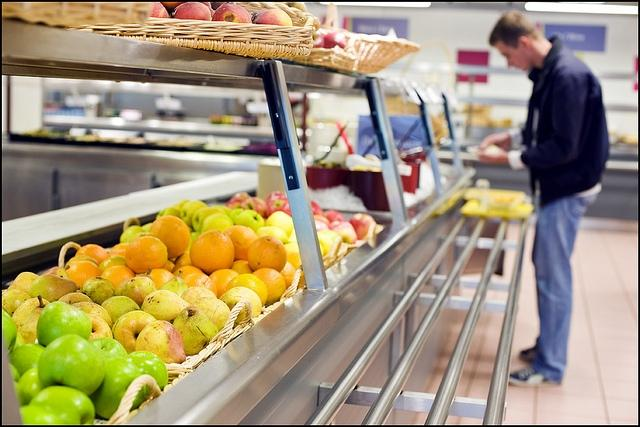apple: (38, 334, 105, 395), (88, 358, 142, 420), (24, 385, 96, 425), (36, 300, 92, 347), (124, 350, 168, 396), (6, 344, 46, 378), (16, 366, 44, 406), (192, 207, 228, 231), (89, 337, 128, 358), (348, 213, 376, 240), (266, 211, 294, 238), (233, 209, 264, 233), (328, 220, 358, 244), (201, 213, 234, 234), (2, 310, 17, 355), (316, 229, 339, 256), (238, 196, 268, 216), (120, 225, 148, 243), (284, 242, 302, 269), (267, 193, 288, 215), (323, 32, 347, 49), (321, 210, 346, 224), (185, 231, 201, 252), (172, 199, 192, 212), (310, 199, 324, 216), (313, 30, 326, 48), (230, 190, 252, 200), (314, 220, 329, 232), (142, 223, 152, 232)
orange: (190, 230, 235, 276), (219, 286, 262, 329), (149, 215, 191, 259), (125, 235, 168, 274), (224, 274, 268, 308), (247, 236, 287, 273), (224, 225, 260, 262), (252, 268, 286, 306), (66, 262, 102, 292), (209, 268, 240, 300), (182, 274, 218, 298), (101, 265, 135, 290), (74, 244, 110, 264), (150, 268, 175, 290), (98, 255, 128, 272), (172, 265, 204, 280), (280, 262, 296, 290), (172, 252, 192, 274), (66, 256, 101, 268), (108, 242, 129, 258), (230, 260, 254, 274), (162, 260, 175, 272)
pear: (172, 306, 221, 356), (136, 320, 186, 364), (112, 310, 156, 355), (218, 286, 262, 330), (12, 295, 50, 344), (140, 290, 192, 324), (26, 272, 80, 302), (192, 296, 230, 332), (101, 296, 140, 330), (115, 276, 156, 308), (70, 301, 112, 330), (81, 276, 116, 306), (2, 289, 32, 317), (158, 270, 188, 297), (86, 314, 113, 342), (7, 271, 38, 294), (180, 286, 217, 305), (58, 292, 94, 304)
